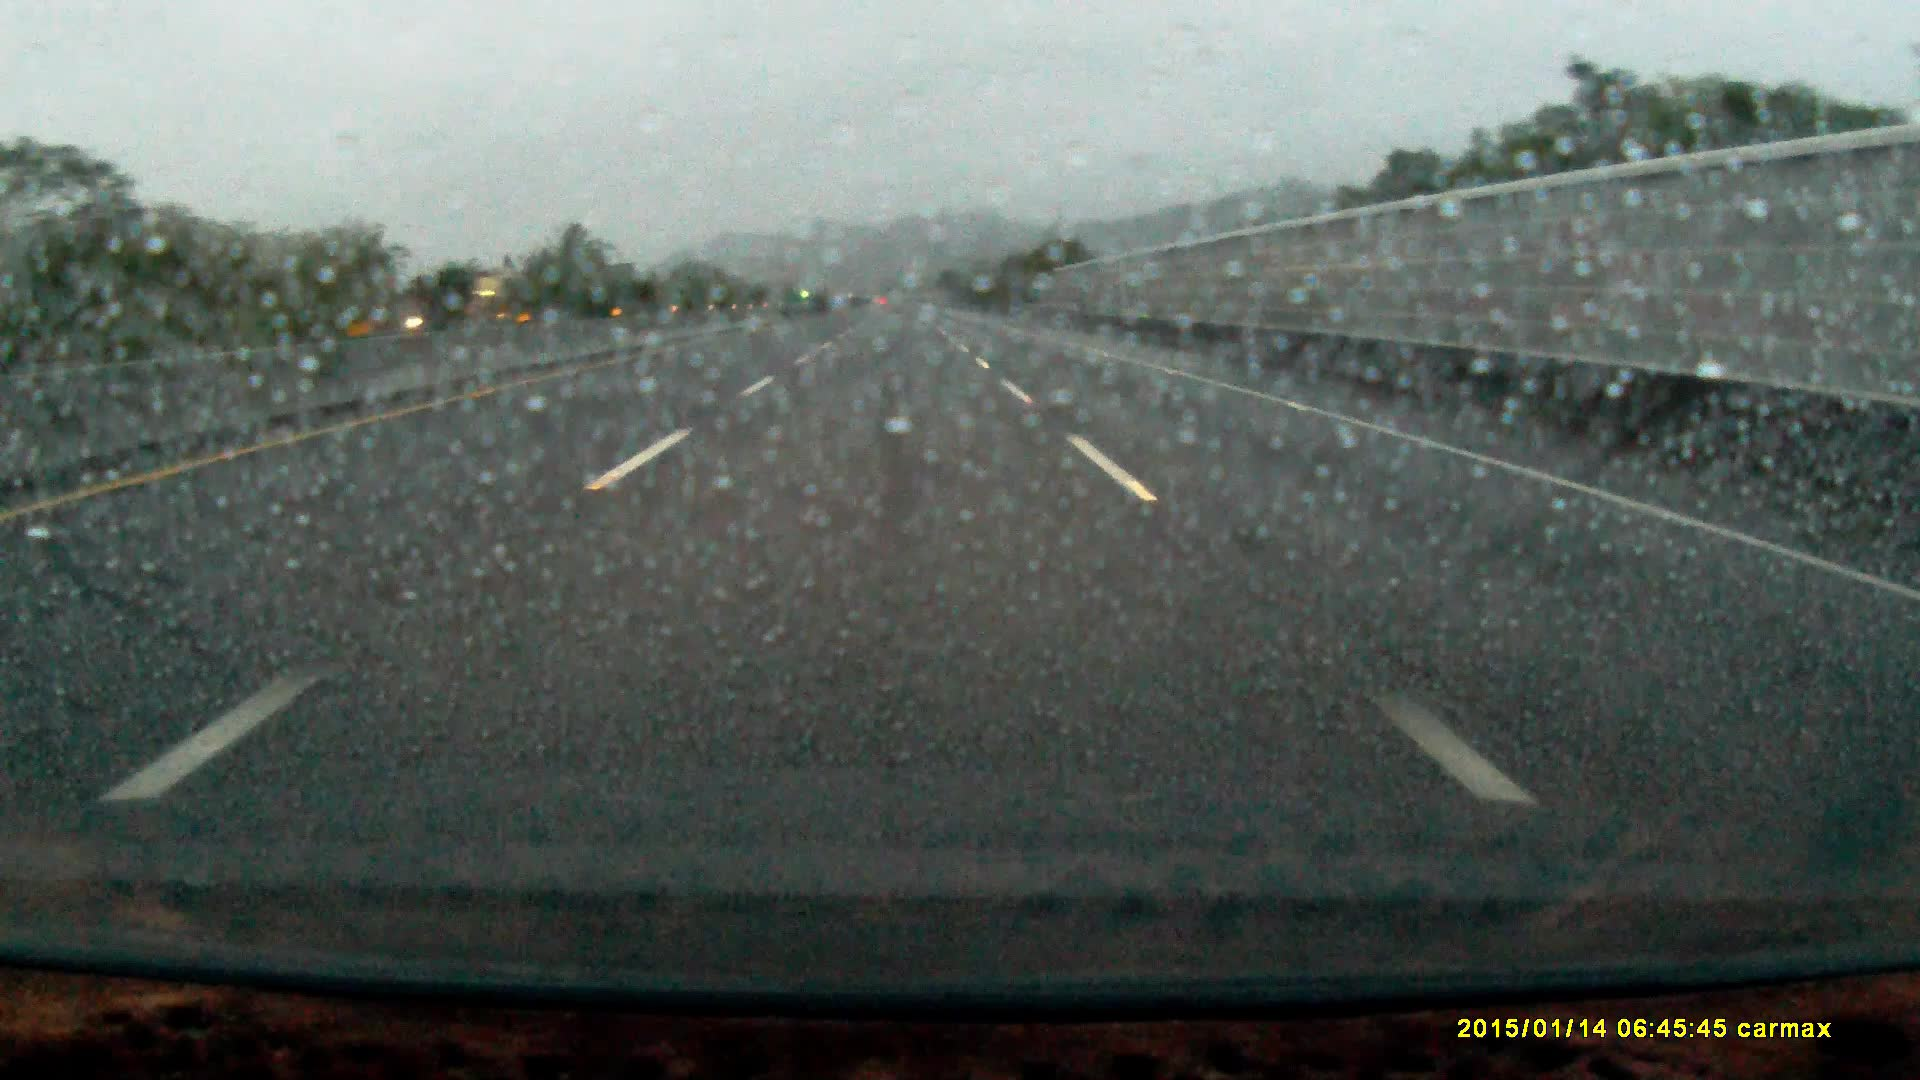vehicle: (411, 273, 512, 326)
